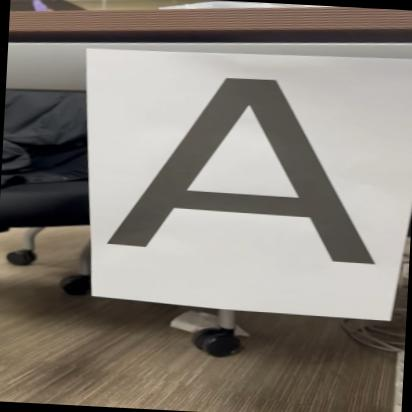seat: (109, 69, 385, 273)
